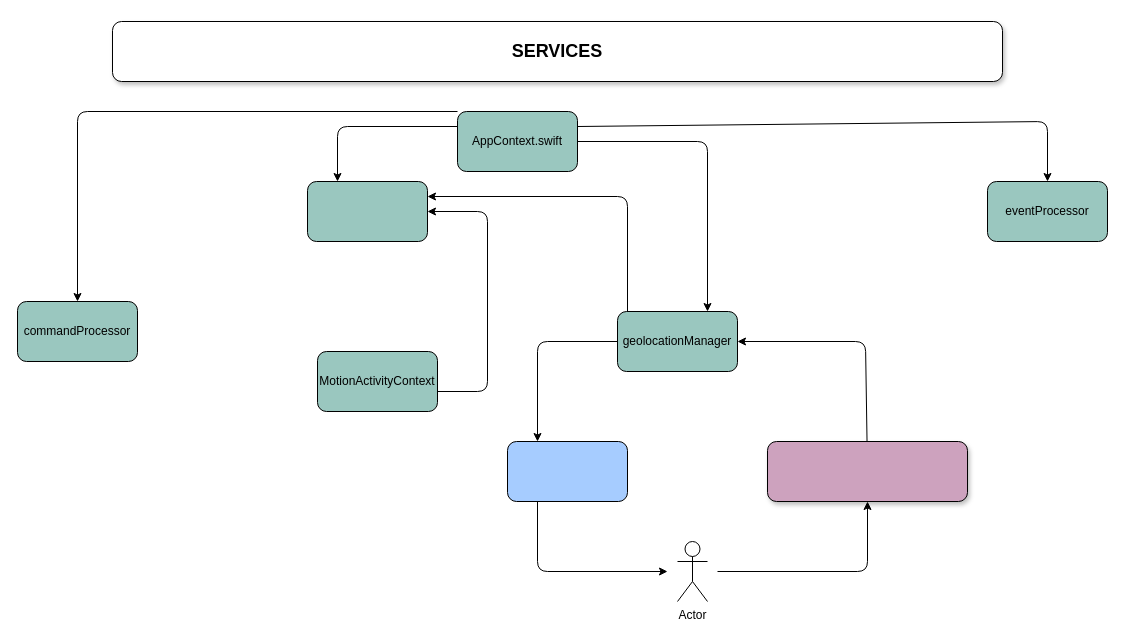
Some shapes in this 1125 by 640 pixel diagram are drawn without their labels. The shapes that lost their labels are listed below. From the top down, each one's centre as x and y in pixels, then its label:
the point at 367,211: spatialDataContext
the point at 567,471: spatialDataView
the point at 868,472: NeabyPlacesMapViewController
